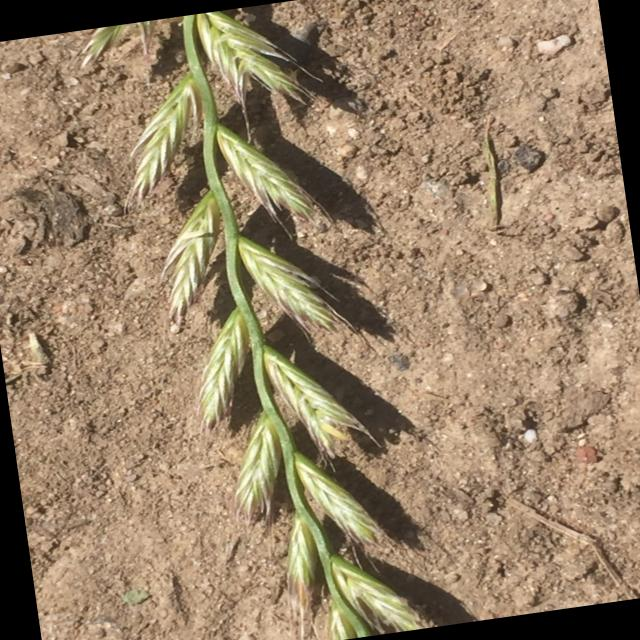Lolium: (74, 0, 424, 640)
